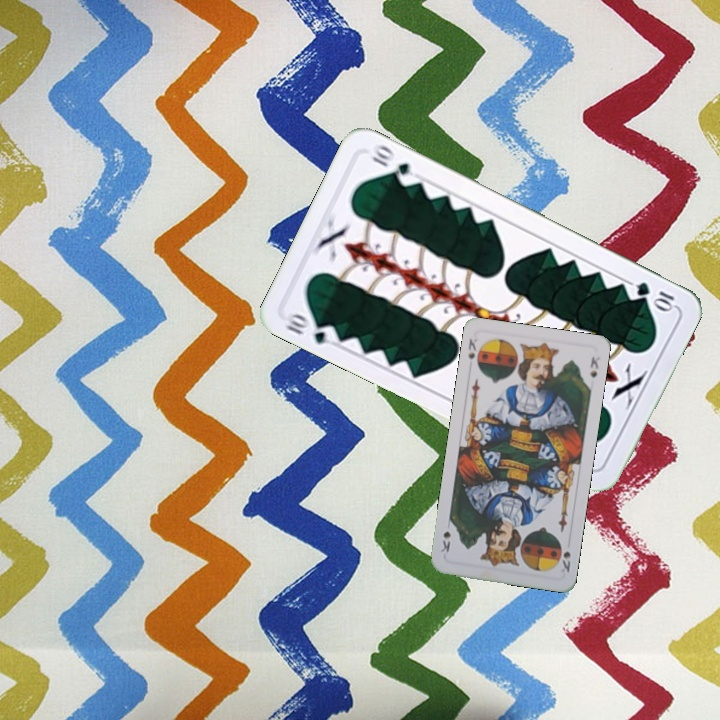G10: (281, 308, 340, 347), (631, 277, 679, 313)
SK: (464, 334, 484, 371), (557, 547, 573, 576)
